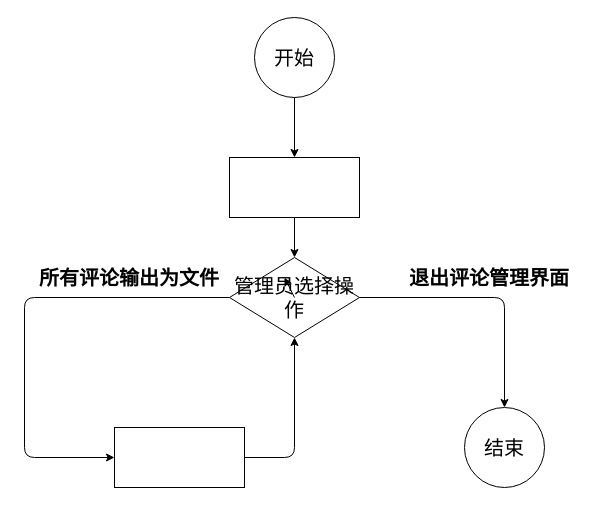
The diagram is 602 pixels wide and 505 high, and some of its shapes have lost their labels. Here are the shapes that lost their labels. From the top down, the box of each, then its label:
(228, 156, 360, 218): 展示所有评论
(114, 426, 244, 488): 打包并下载所有输出
